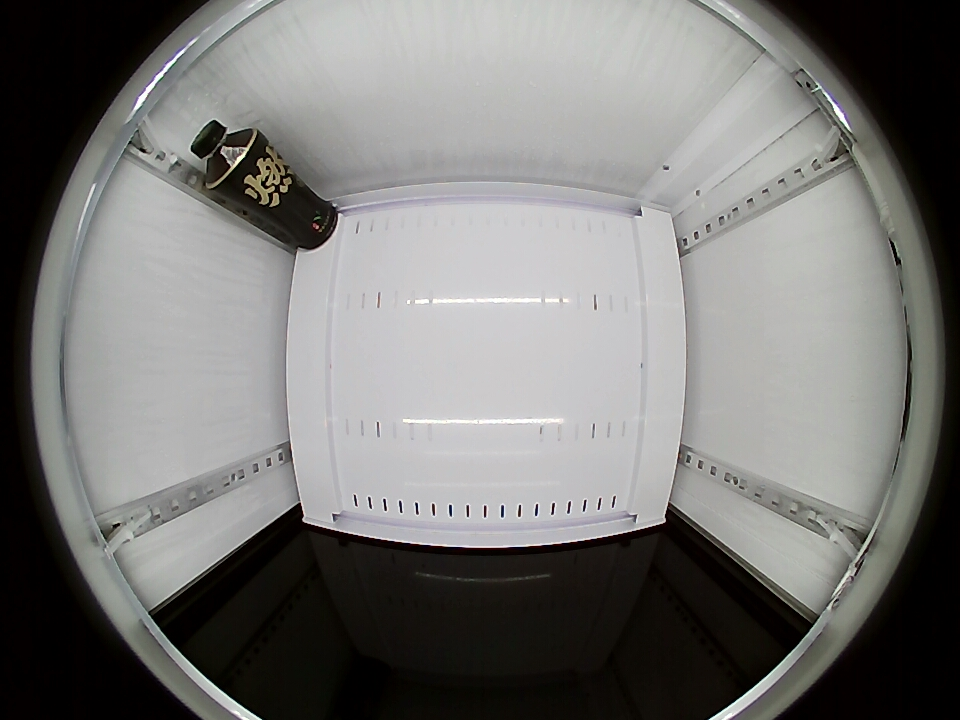rancha-1: (189, 120, 261, 191)
